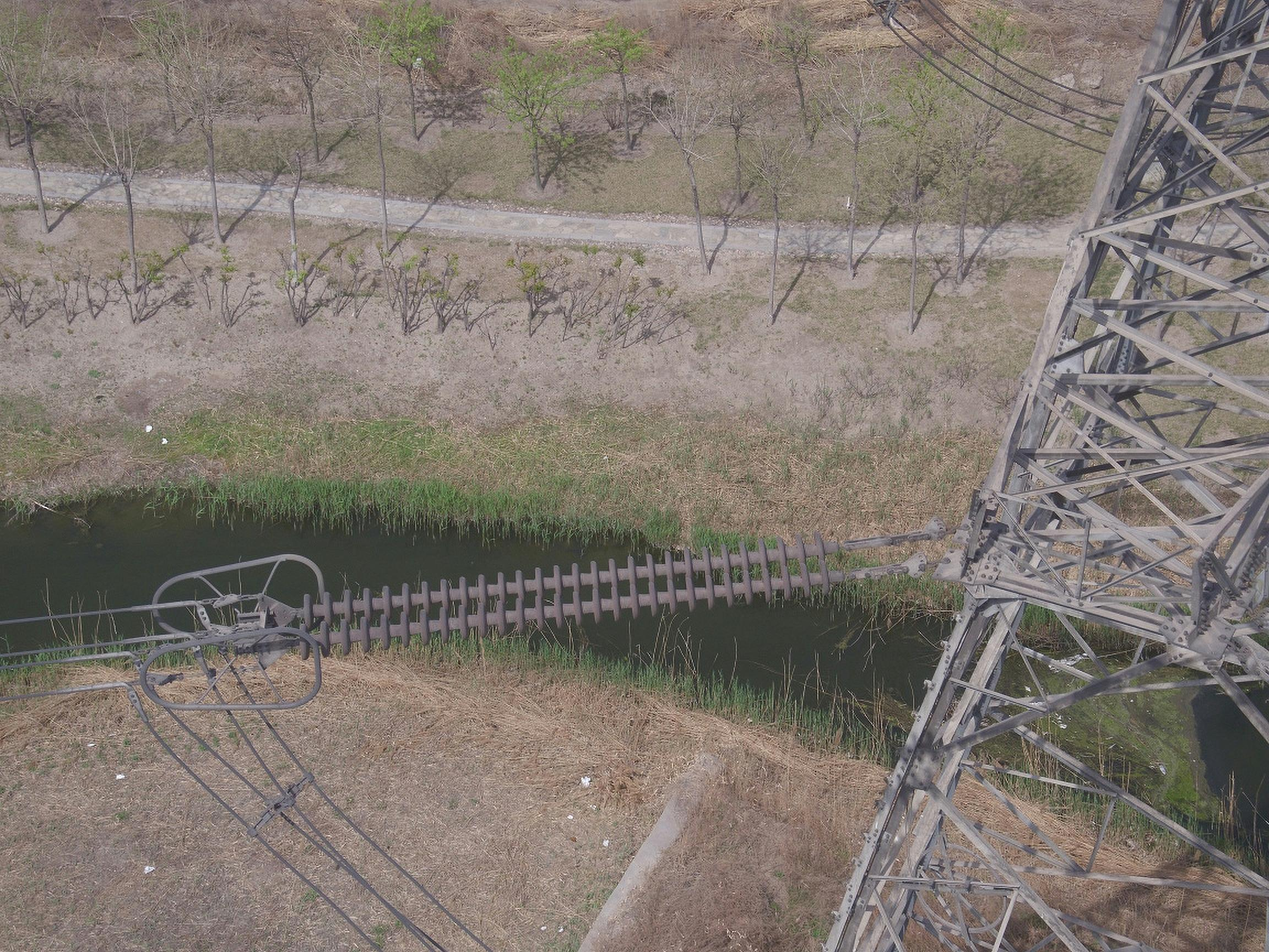insulator: (292, 528, 833, 664)
